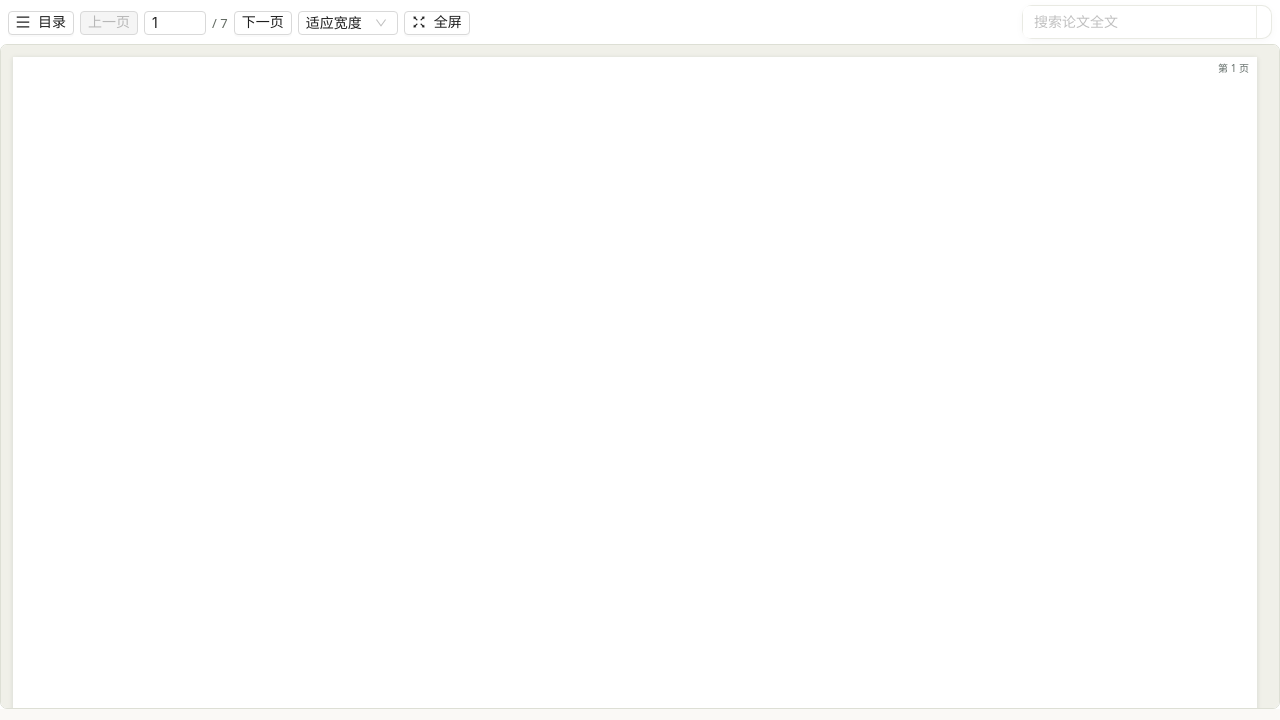
Scenario: expanded reading works when the browser does not offer native fullscreen
Expected: the number field named "PDF 页码" is enabled, [145,12,205,34]
Step 1. Click the button labelled "全屏" → click(437, 23), box [404,11,470,35]
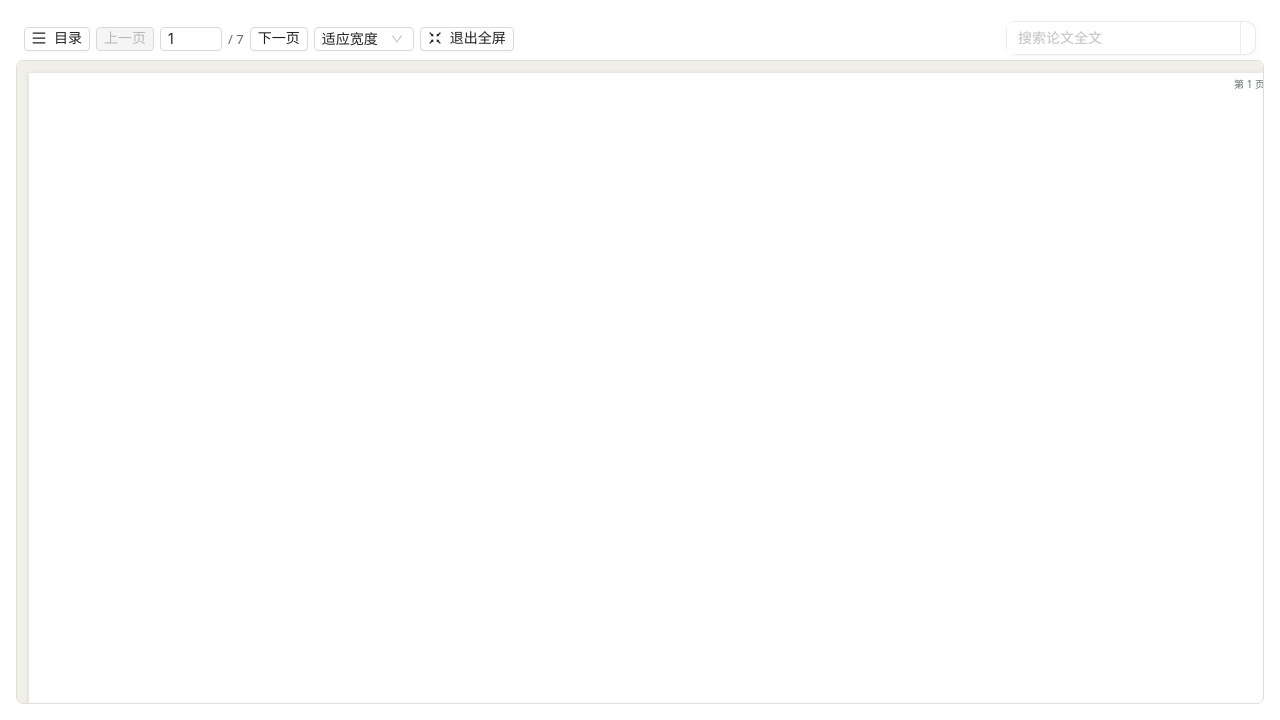
Result: the element named "PDF 阅读器" has class "is-expanded"
Step 2. Press Escape
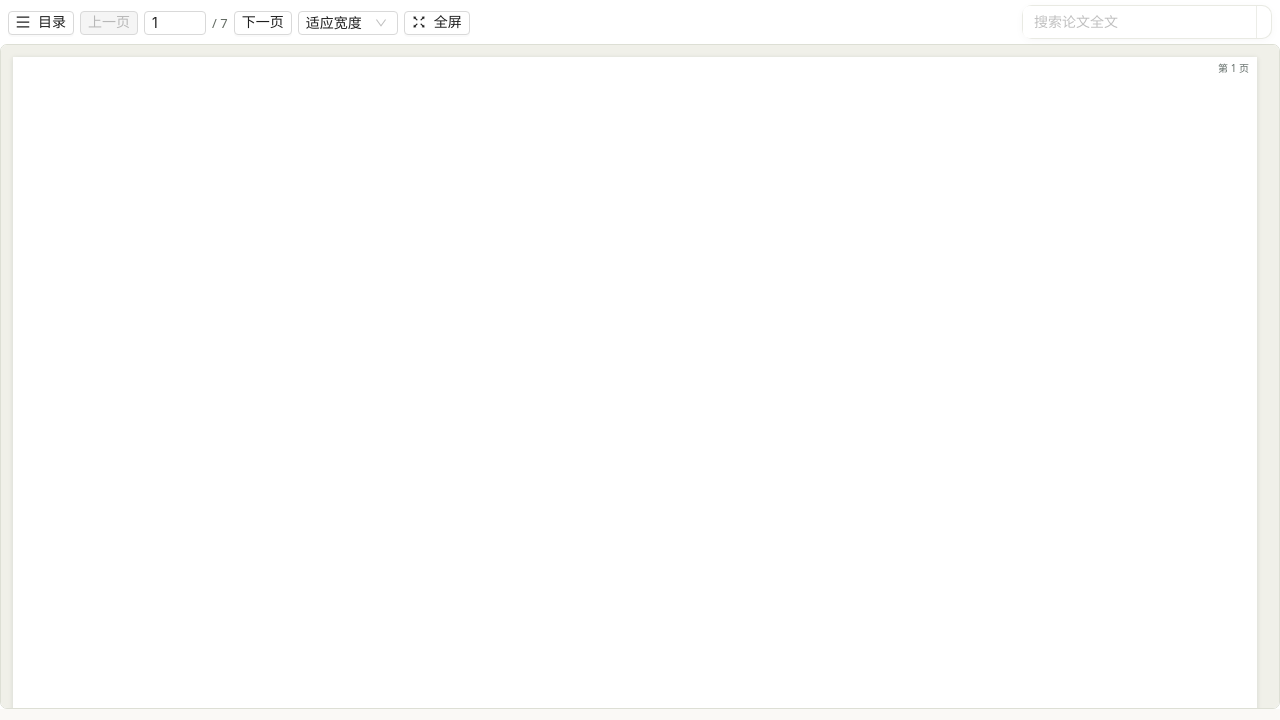
Result: the element named "PDF 阅读器" does not have class "is-expanded"
